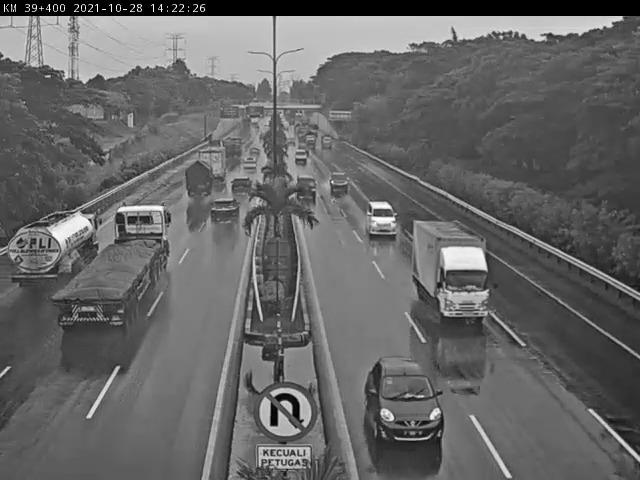big truck: (105, 203, 171, 302), (195, 136, 230, 181)
car: (361, 360, 447, 449), (366, 204, 401, 242), (208, 198, 238, 226), (325, 164, 351, 189), (230, 176, 258, 198), (240, 154, 263, 176), (297, 173, 318, 196), (290, 148, 312, 167), (247, 148, 260, 163)
small truck: (411, 212, 506, 324), (18, 206, 102, 264), (176, 163, 212, 207)
